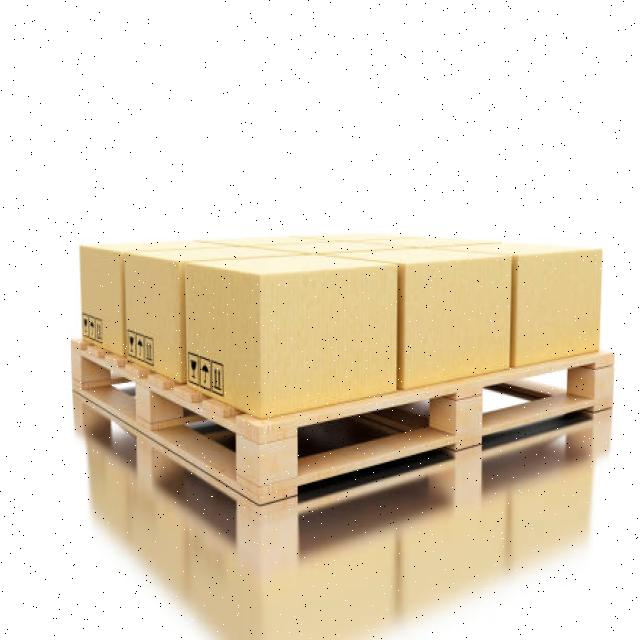Wooden-Pallets: (67, 338, 618, 509)
